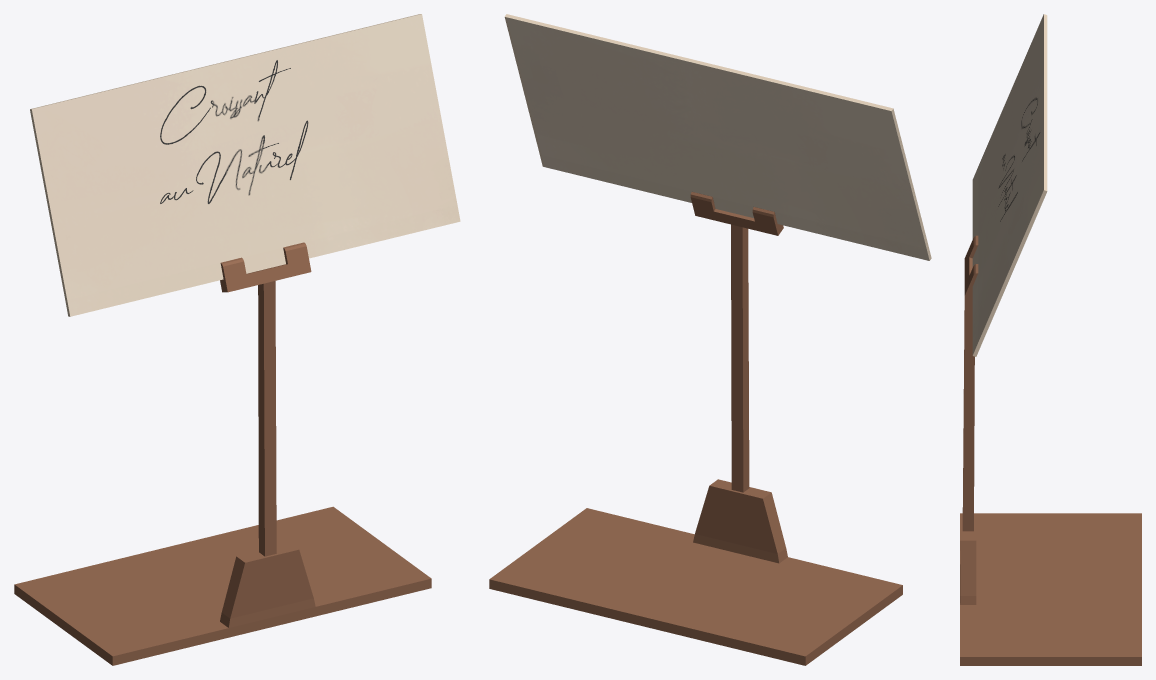
The model's file is m_price cardsV2.fbx.
The picture shows the model from 3 angles, left to right: view 1: azimuth 30°, elevation 25°; view 2: azimuth 150°, elevation 25°; view 3: azimuth 270°, elevation 25°; orthographic projection. The views are drawn at different scales.
Visible parts, largest first — view 1: price card tall; view 2: price card tall; view 3: price card tall.
Part boxes in pixels (left/top/right/bottom): price card tall: left=14, top=14, right=460, bottom=665; price card tall: left=489, top=14, right=931, bottom=665; price card tall: left=960, top=14, right=1141, bottom=665.
Size of the model in its own units: 14.91 by 19.43 by 6.51.
